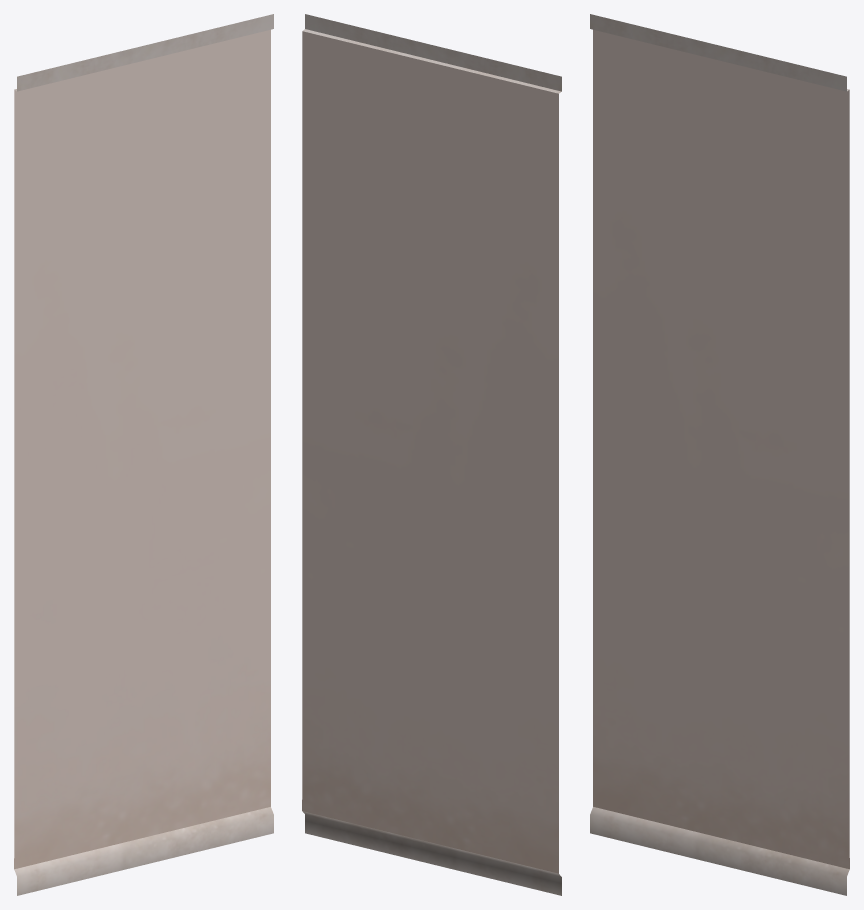
Rendered from MT_Room_Single_Wall.fbx.
3 renders of one model, left to right at view 1: azimuth 30°, elevation 25°; view 2: azimuth 150°, elevation 25°; view 3: azimuth 330°, elevation 25°, orthographic.
Visible parts, largest first — view 1: HalfWall.001; view 2: HalfWall.001; view 3: HalfWall.001.
Part boxes in pixels (<box>): HalfWall.001: <box>14,14,273,895</box>; HalfWall.001: <box>302,14,561,895</box>; HalfWall.001: <box>590,14,849,895</box>.
Size of the model in its own units: 100 by 305 by 2.
